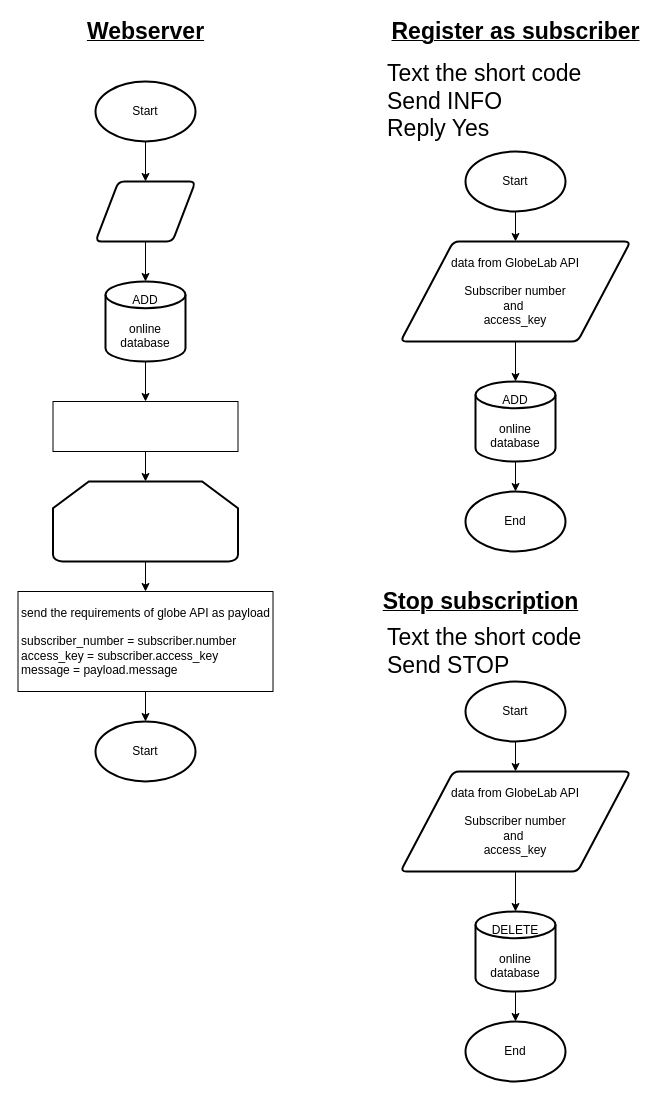
Image size: 662x1099. Some labels were removed from this diagram. The shapes that lost their labels are listed below. From the top down, each one's centre as x and y in pixels, then its label:
(145,211): payload
(145,426): Query all the of the subscribers as subscribers
(145,521): for subscriber in subscrbers:
